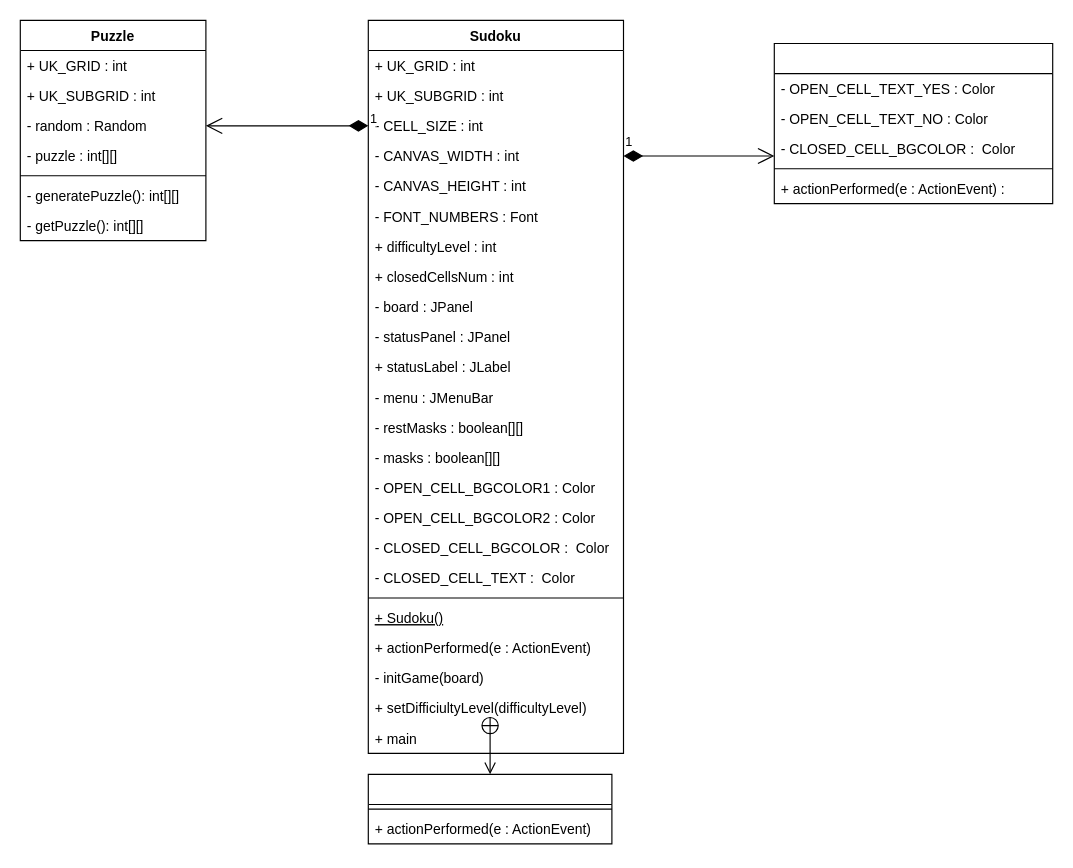
Some shapes in this 1073 by 868 pixel diagram are drawn without their labels. Here are the shapes that lost their labels. From the top down, the box of each, then its label:
(773, 42, 1053, 204): InputListener
(367, 773, 612, 844): DifficultyMenuListener
